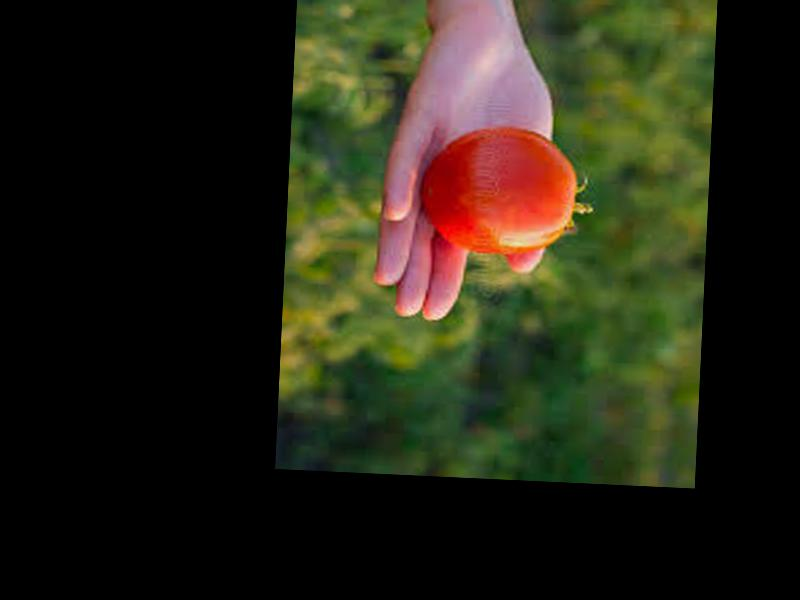Tomato: (416, 124, 577, 255)
